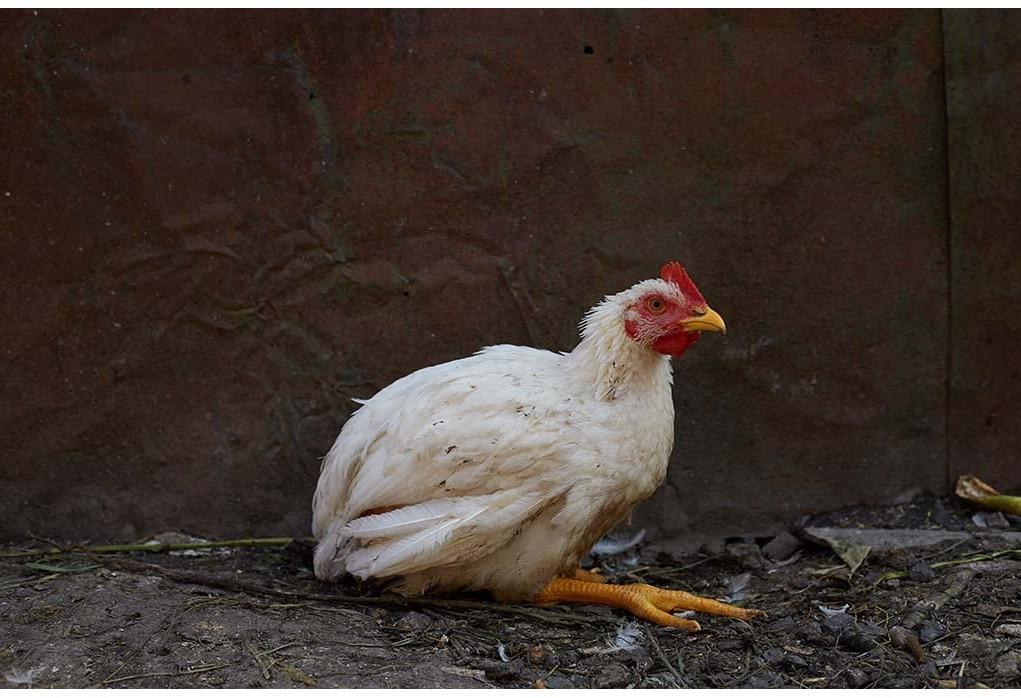AbNormal: (298, 260, 786, 638)
